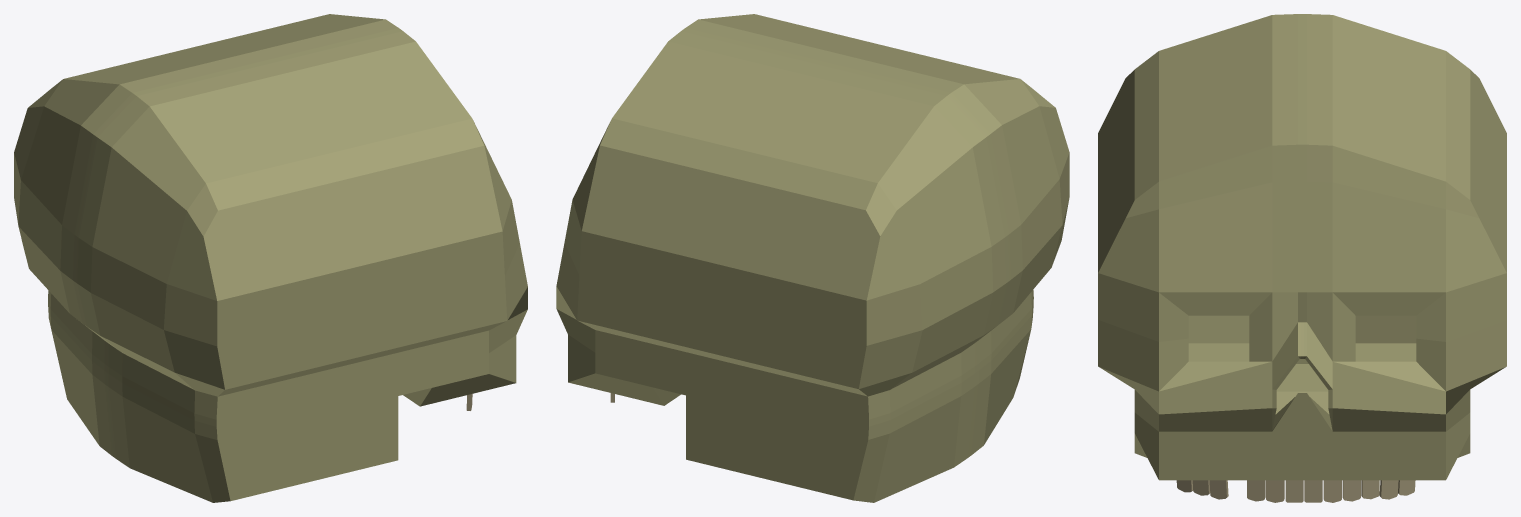
The model's file is skull_temp.glb.
3 views of the same model, side by side, from view 1: azimuth 30°, elevation 25°; view 2: azimuth 150°, elevation 25°; view 3: azimuth 270°, elevation 25° (orthographic).
Parts seen in each view (by area): view 1: Cube; view 2: Cube; view 3: Cube, Cube.001.
Part boxes in pixels (x1,y1,x2,y2): Cube: (14, 14, 527, 502); Cube: (556, 14, 1069, 502); Cube: (1098, 14, 1506, 480); Cube.001: (1176, 480, 1415, 502).
Bounding box in the file's own units: 4.53 × 3.9 × 4.01.
